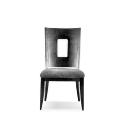chair_success: (36, 18, 90, 114)
